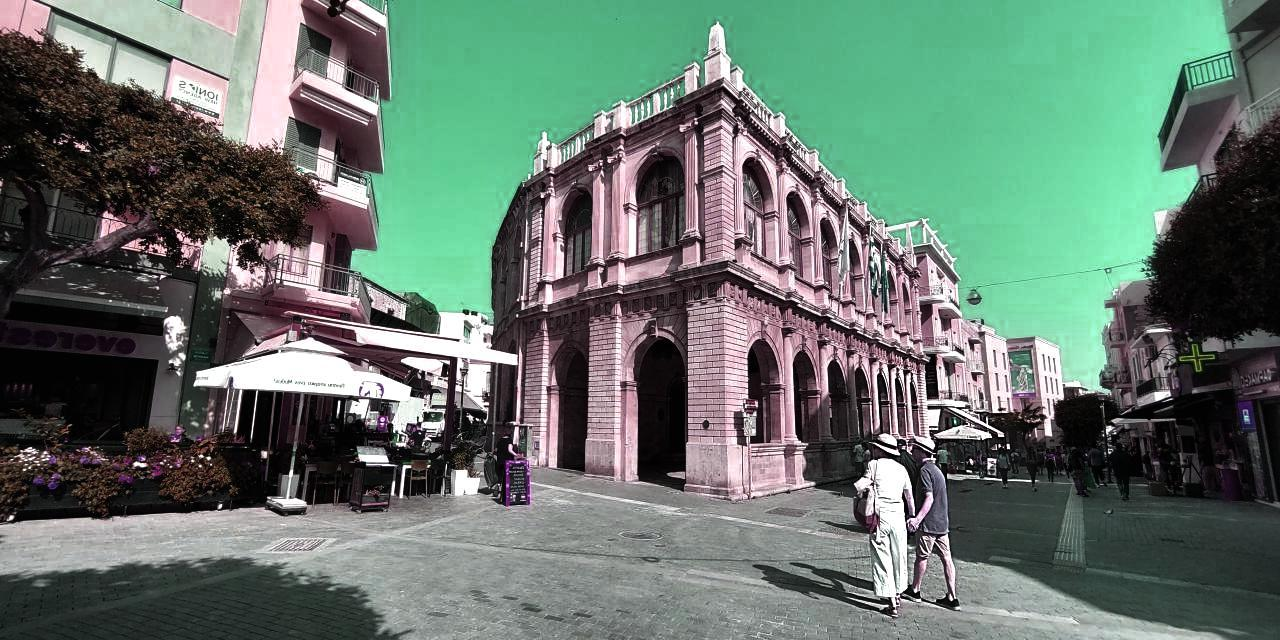Loggia: (457, 9, 929, 495)
